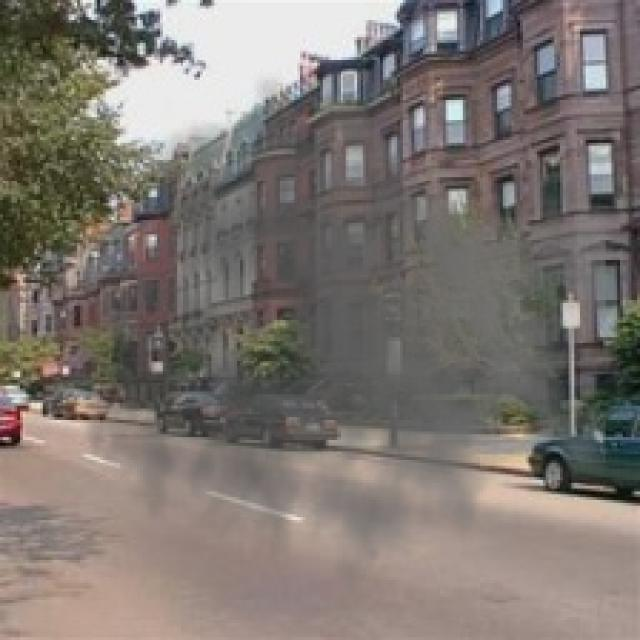smoke: (74, 71, 606, 623)
